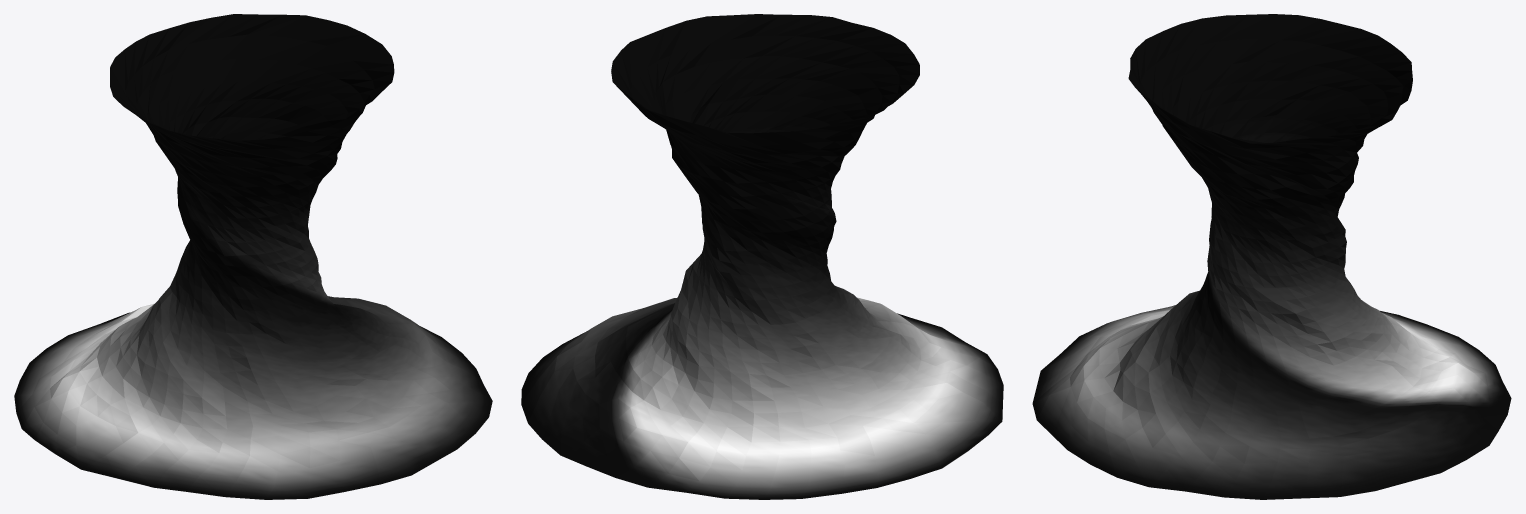
The model's file is 0087_LONGJUAN.glb.
The picture shows the model from 3 angles, left to right: view 1: azimuth 30°, elevation 25°; view 2: azimuth 150°, elevation 25°; view 3: azimuth 270°, elevation 25°; orthographic projection.
Size of the model in its own units: 2.2 by 1.64 by 2.2.
1 material, 1 textured.
